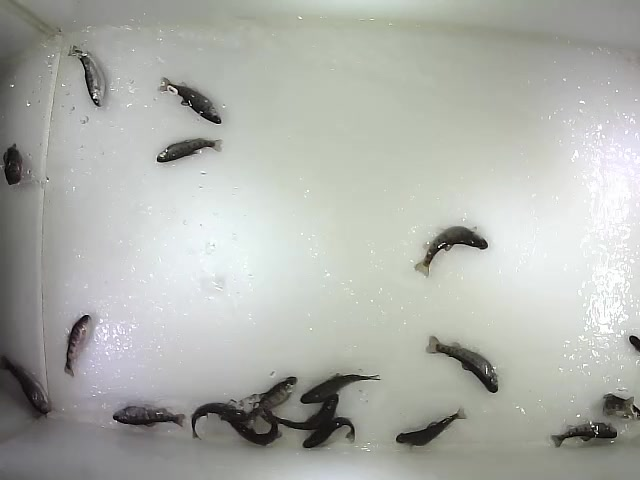fish: (424, 334, 500, 396), (413, 224, 489, 279), (396, 404, 469, 453), (156, 76, 224, 127), (1, 354, 52, 417), (264, 392, 340, 431), (240, 375, 299, 425), (299, 372, 383, 405), (67, 44, 107, 109), (224, 406, 284, 449), (191, 400, 250, 442), (64, 314, 94, 379), (155, 136, 224, 164), (112, 404, 188, 429), (302, 415, 357, 449), (550, 422, 619, 449), (601, 391, 640, 423), (2, 142, 24, 187)
